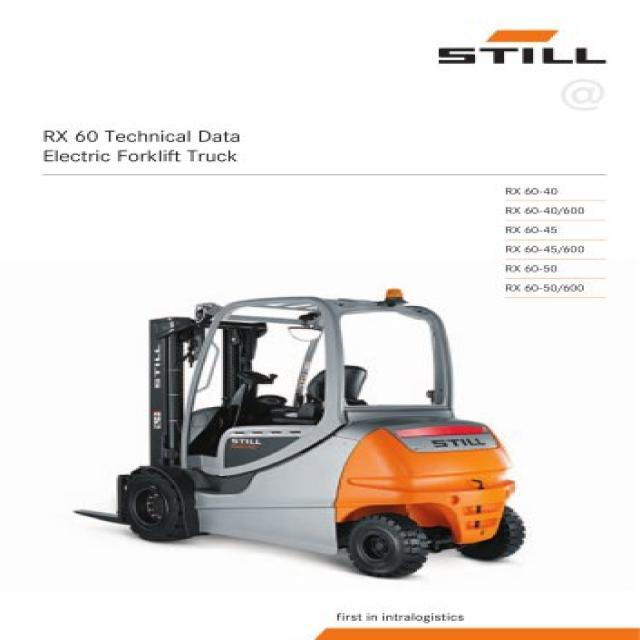forklift: (114, 287, 542, 582)
